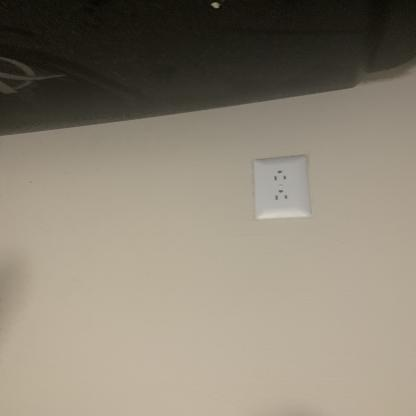OUTLET: (255, 158, 307, 219)
